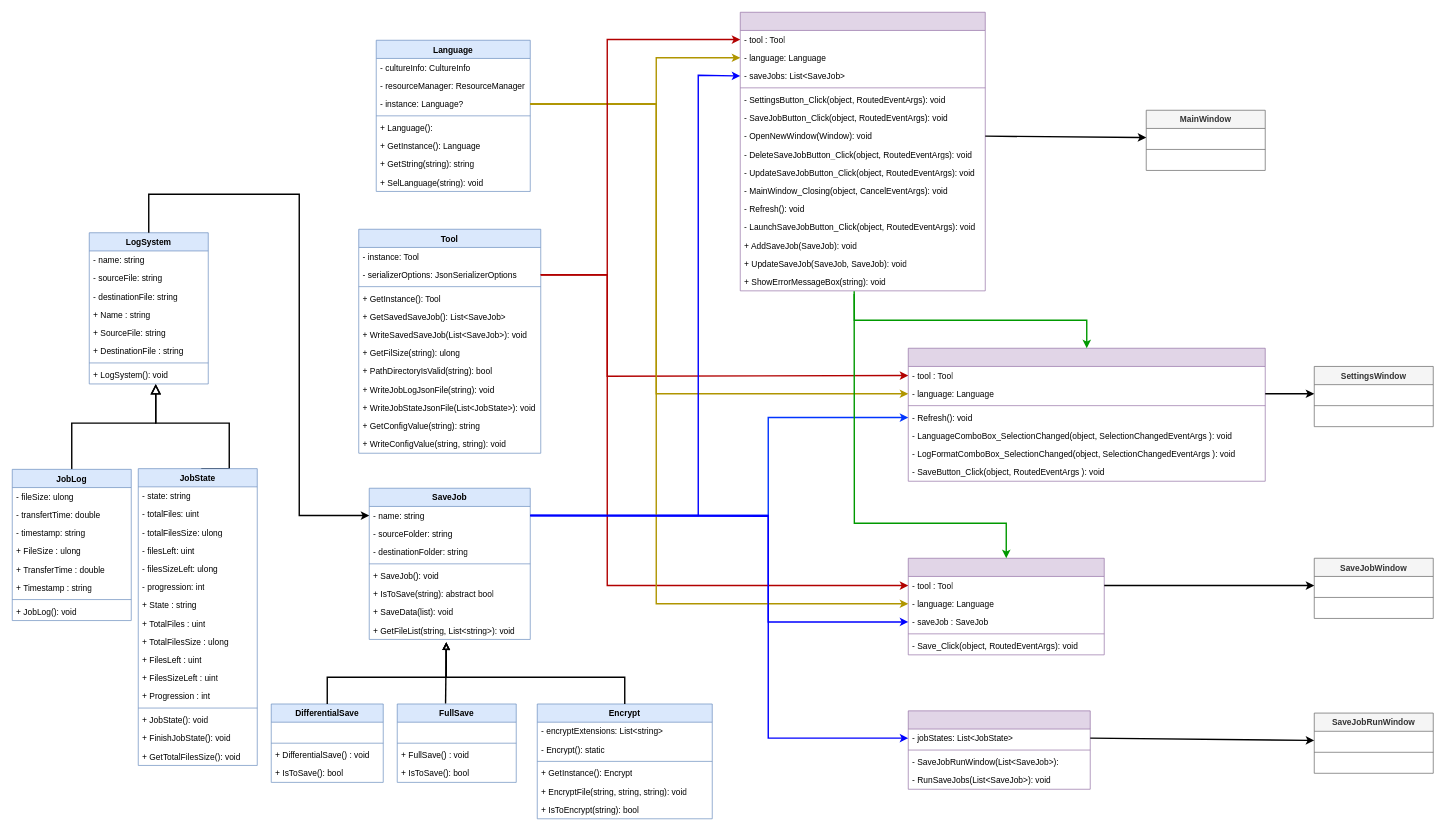
This 1446x833 diagram has some shape labels left out. Each missing label, with the box of its shape:
ViewModel MainWindow: (740, 12, 985, 291)
ViewModel SaveJobRunWindow: (908, 710, 1090, 789)
ViewModel SaveJobWindow: (908, 558, 1104, 655)
ViewModel SettingsWindow: (908, 348, 1265, 481)
